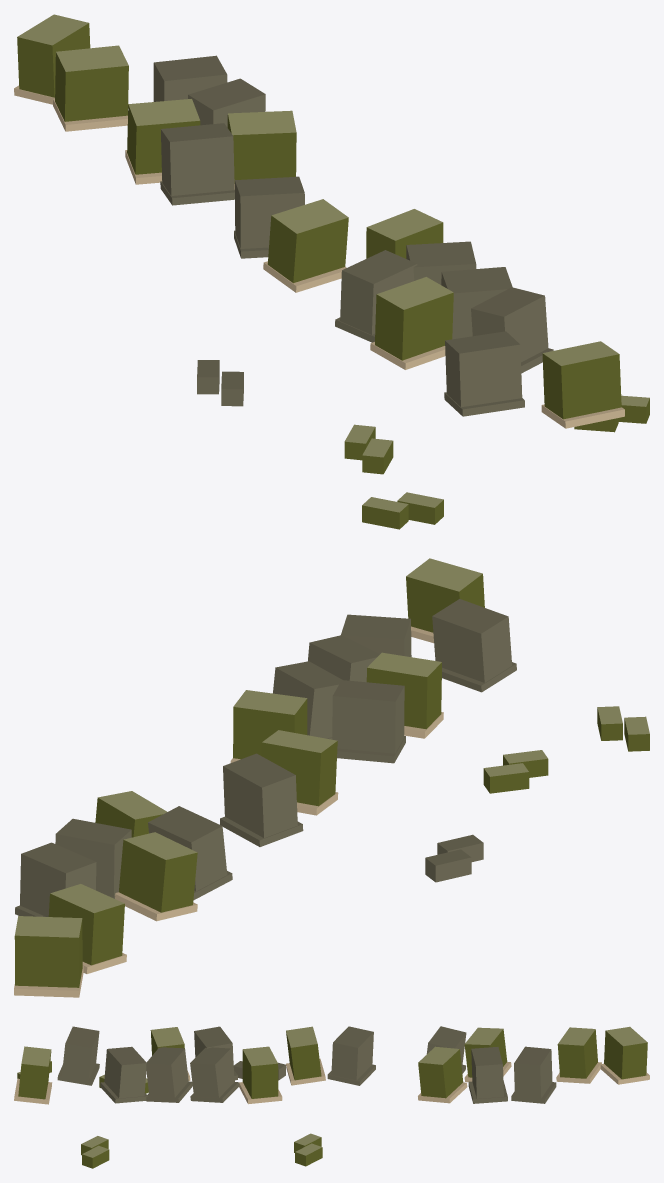
The model's file is SM_CargaMunicion_Destrozado_LOD1.fbx.
3 views of the same model, one above another, from view 1: azimuth 30°, elevation 25°; view 2: azimuth 150°, elevation 25°; view 3: azimuth 270°, elevation 25° (orthographic). The views are drawn at different scales.
Parts seen in each view (by area): view 1: SM_carga_vagon_v4_LOD1; view 2: SM_carga_vagon_v4_LOD1; view 3: SM_carga_vagon_v4_LOD1.
Boxes of the visible parts, x1,y1,x2,y2 form: SM_carga_vagon_v4_LOD1: (14,14,649,529); SM_carga_vagon_v4_LOD1: (14,558,649,997); SM_carga_vagon_v4_LOD1: (14,1026,649,1168).
Bounding box in the file's own units: 6.85 × 2.47 × 18.15.
